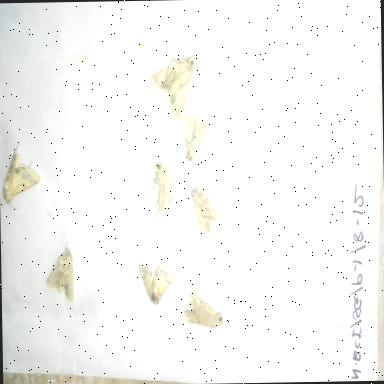abw: (146, 44, 200, 124), (0, 139, 43, 216), (132, 250, 182, 316), (186, 170, 228, 248), (179, 283, 231, 338), (42, 236, 79, 308), (146, 155, 182, 227), (180, 106, 214, 176)
